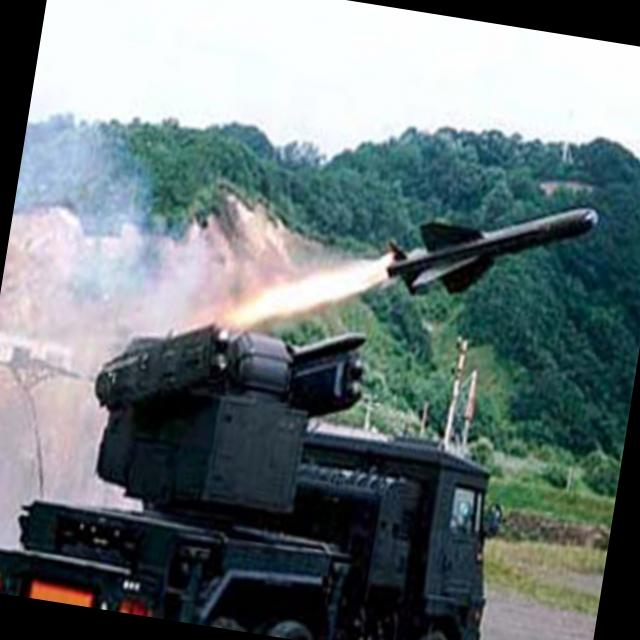rocket: (299, 159, 600, 350)
